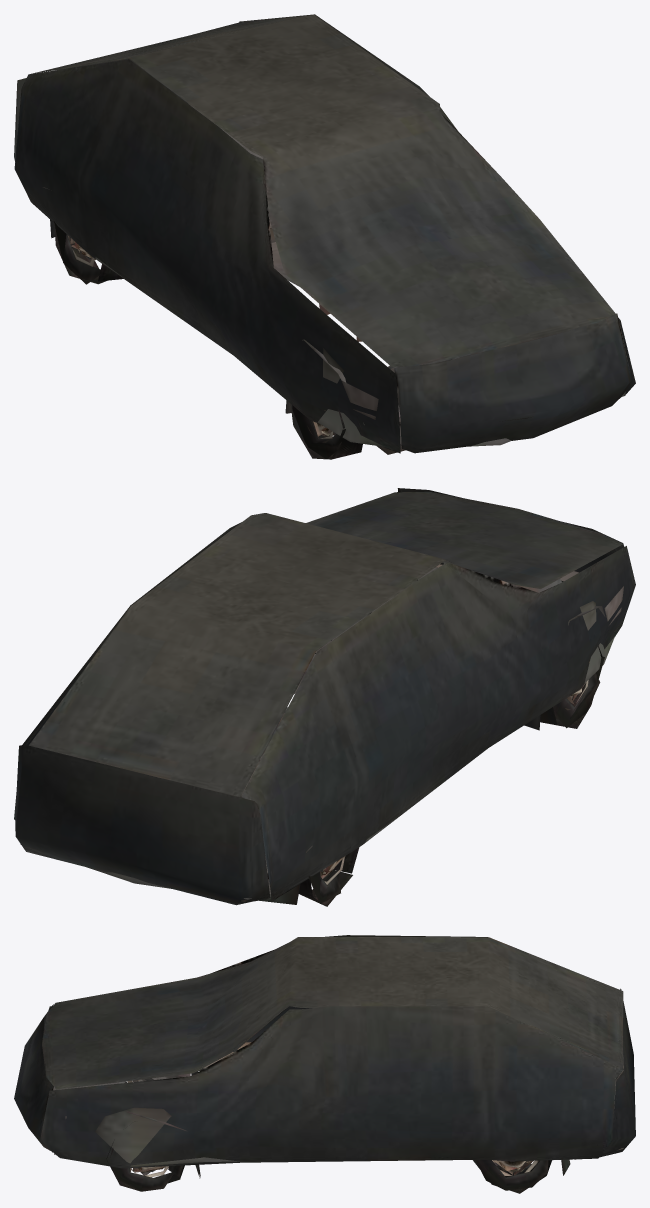
The model's file is carro_coberto.glb.
3 views of the same model, one above another, from view 1: azimuth 30°, elevation 25°; view 2: azimuth 150°, elevation 25°; view 3: azimuth 270°, elevation 25° (orthographic). The views are drawn at different scales.
Parts seen in each view (by area): view 1: Malha; view 2: Malha; view 3: Malha.
Boxes of the visible parts, x1=… form: Malha: x1=14, y1=14, x2=635, y2=459; Malha: x1=14, y1=488, x2=635, y2=906; Malha: x1=14, y1=935, x2=635, y2=1193.
Size of the model in its own units: 1.78 by 1.37 by 4.39.
2 materials, 2 textured.
